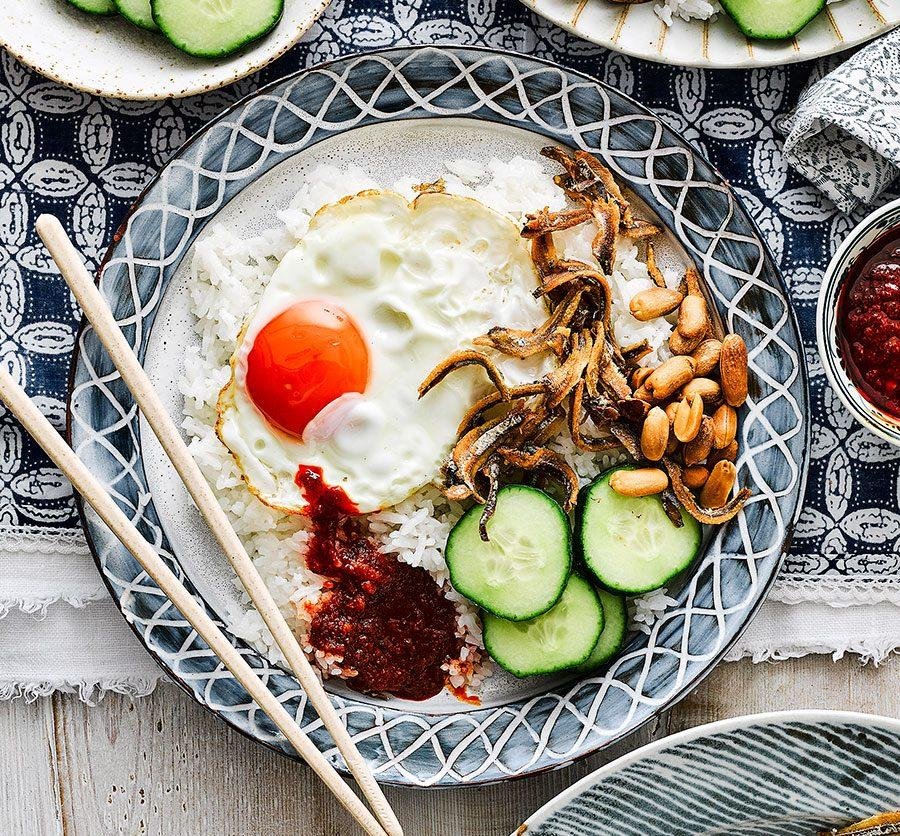Anchovies: (418, 147, 758, 527)
Cucumber: (445, 467, 713, 678)
Fried-Egg: (216, 190, 548, 513)
Peanuts: (630, 280, 745, 509), (609, 468, 669, 498)
Rice: (179, 167, 380, 641), (365, 498, 493, 671), (442, 161, 566, 216), (610, 256, 672, 347)
Sambal: (294, 465, 465, 701)
